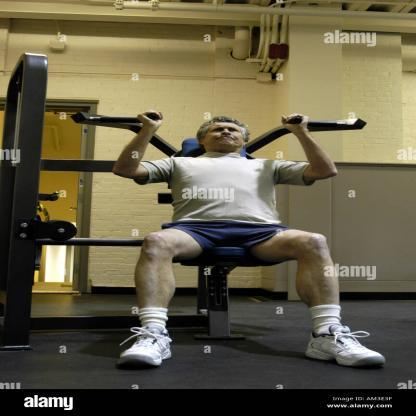shoulder press machine: (9, 54, 370, 337)
